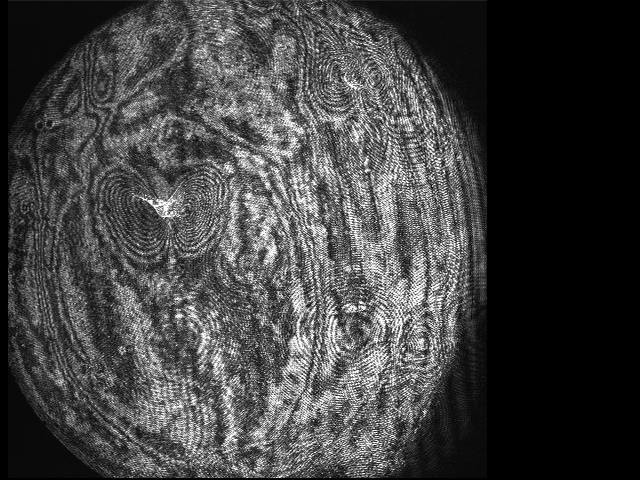plume: (101, 163, 226, 258)
